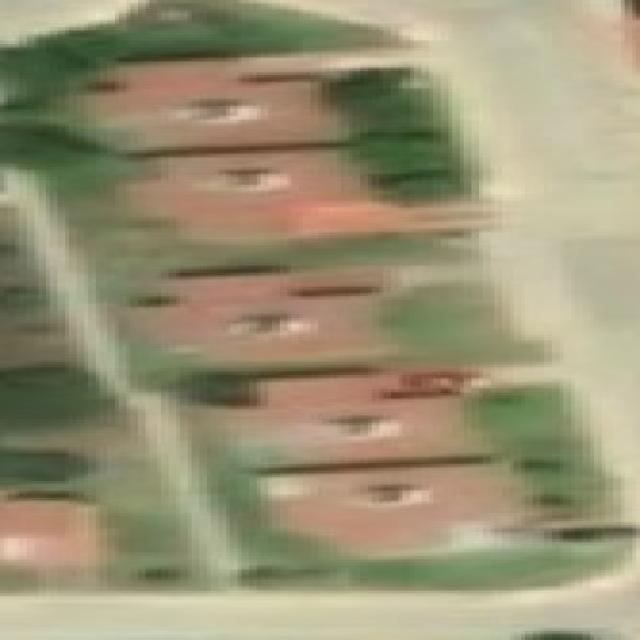Batiment: (133, 149, 467, 242), (130, 262, 396, 368), (82, 59, 345, 152), (259, 464, 519, 555), (230, 369, 474, 462), (0, 499, 96, 583)
